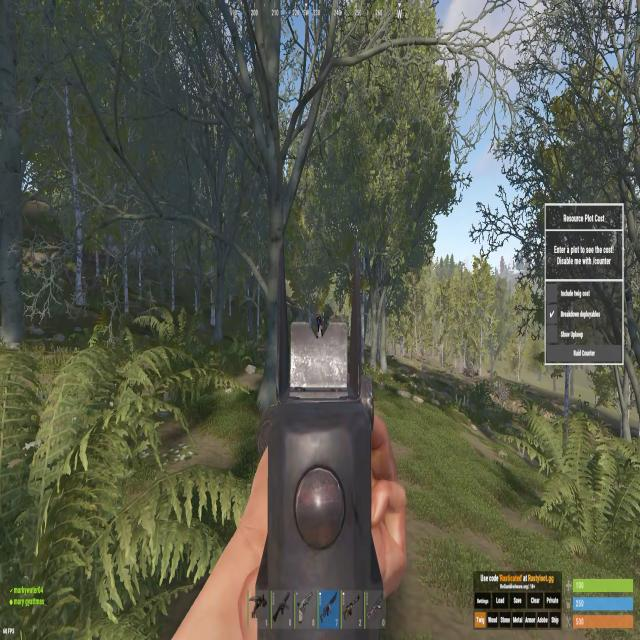Player: (316, 312, 324, 340)
